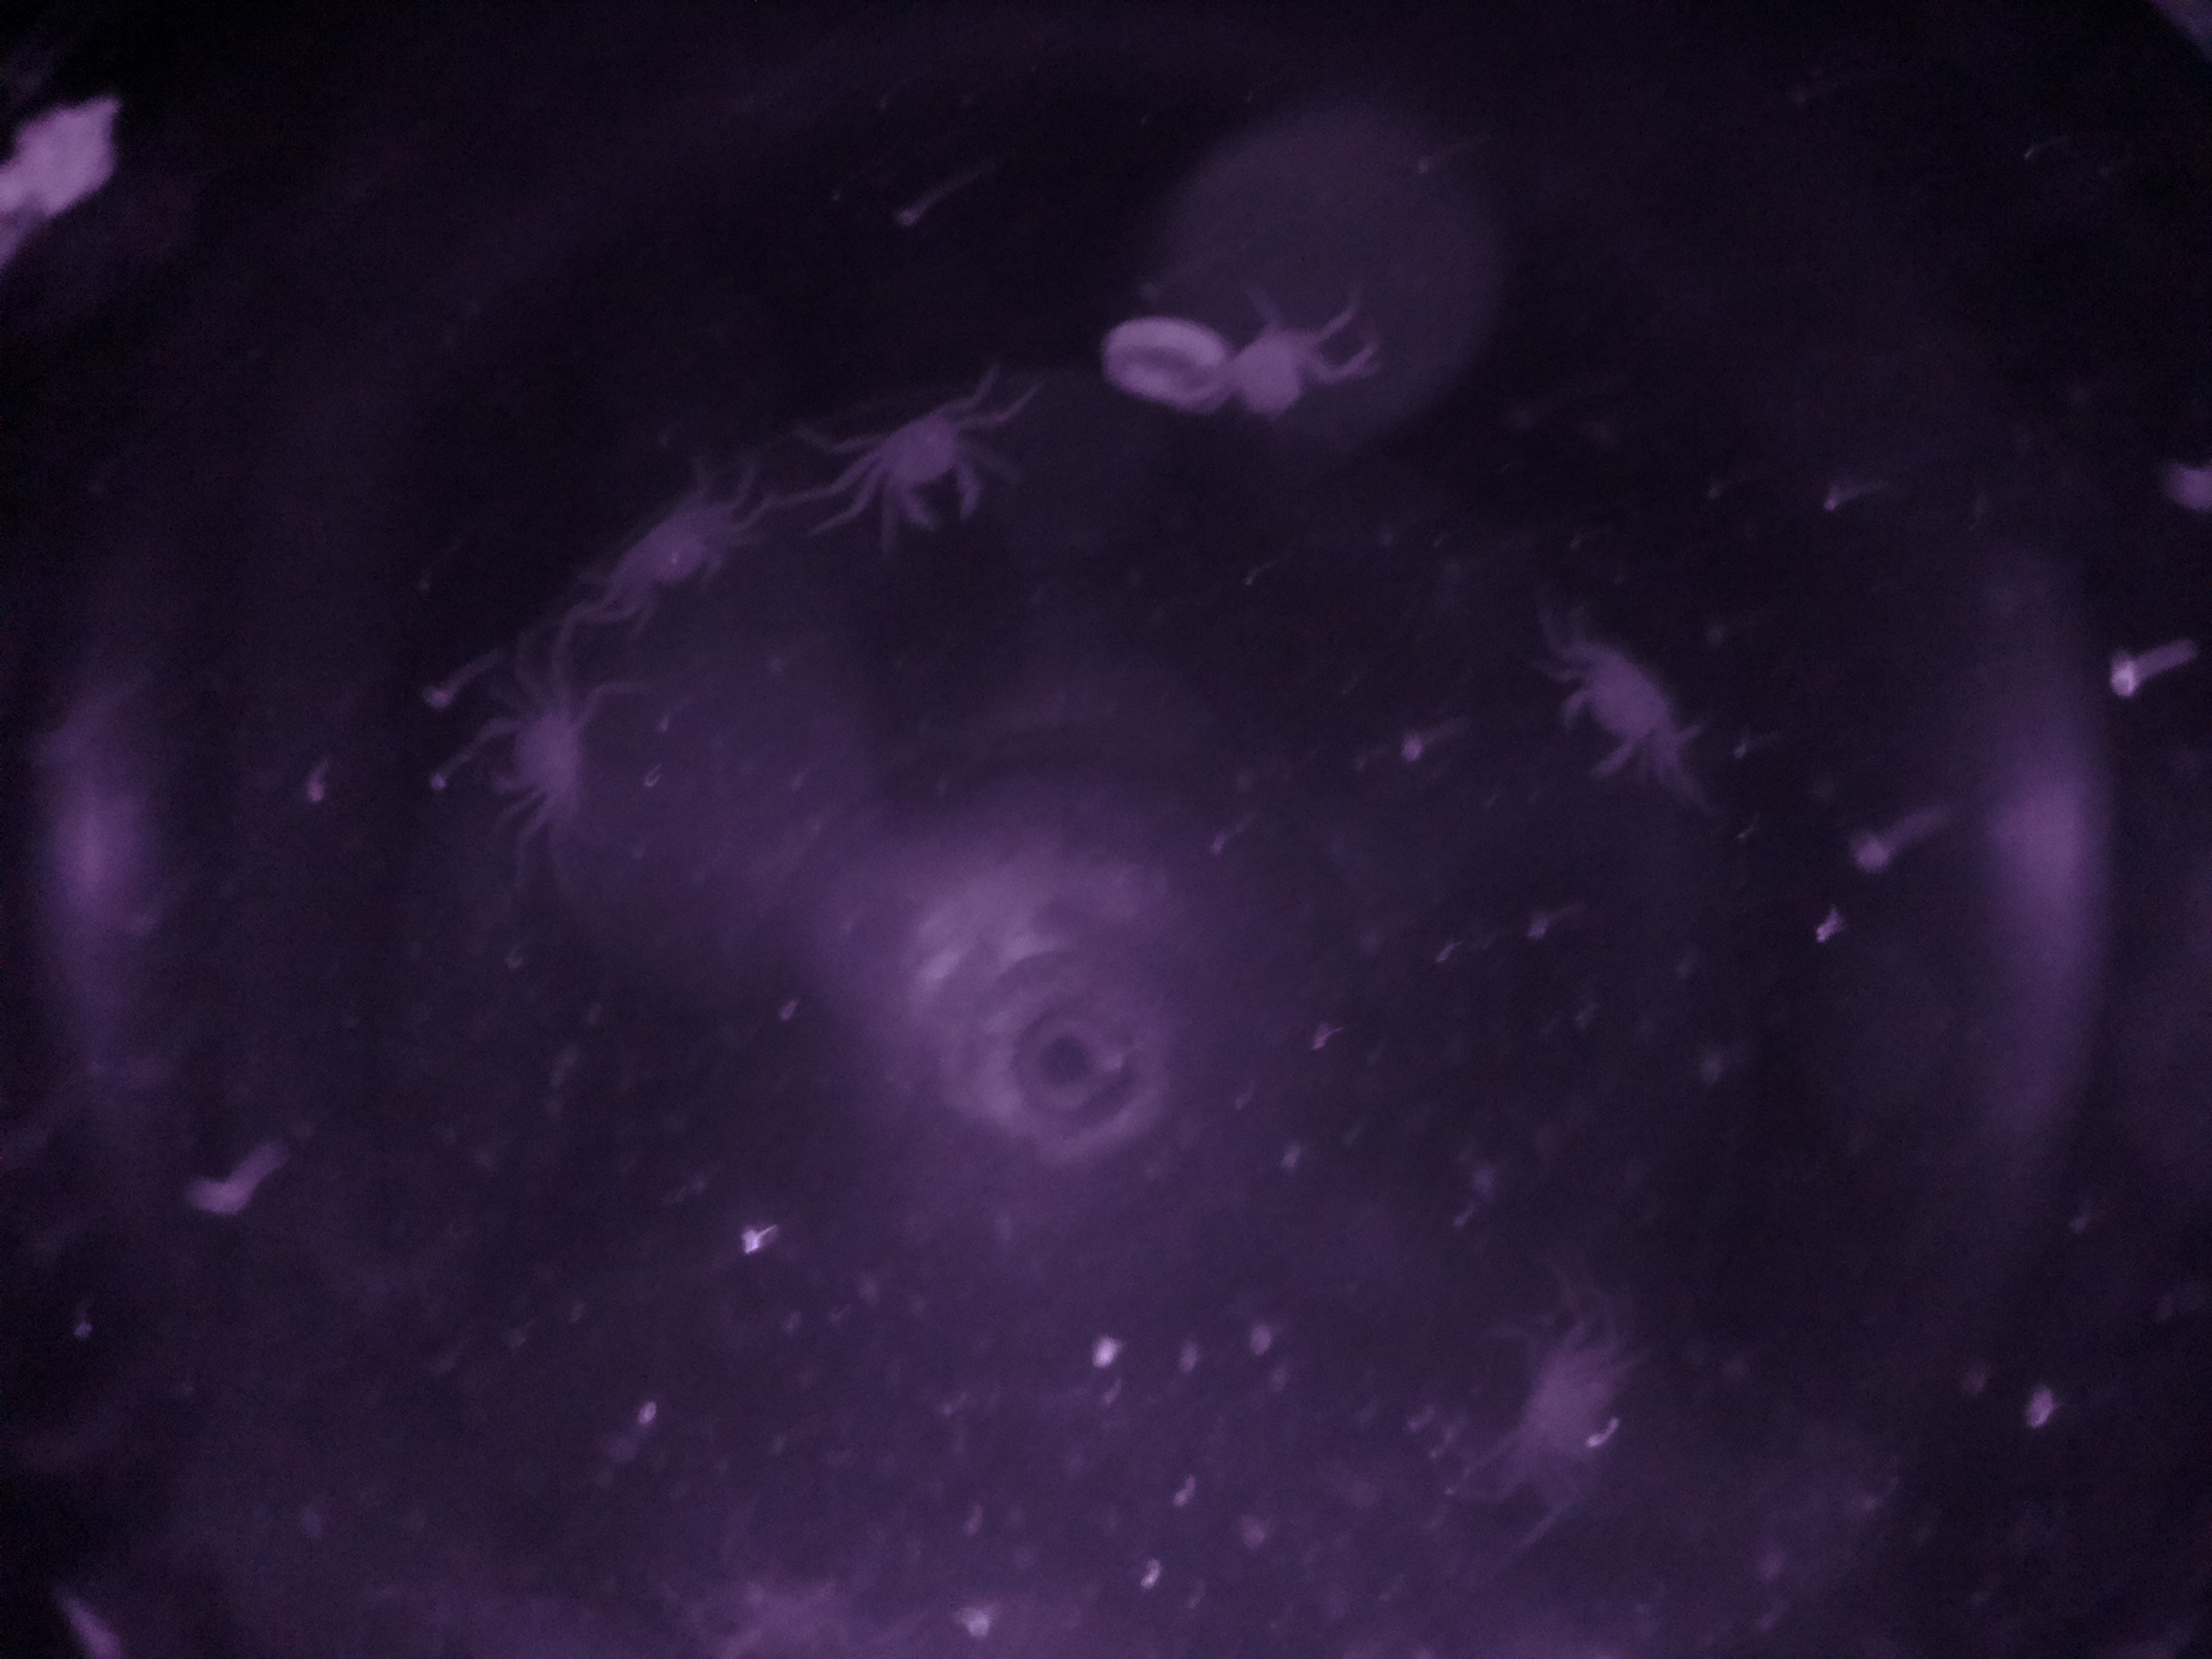Crab: (826, 373, 1015, 542)
